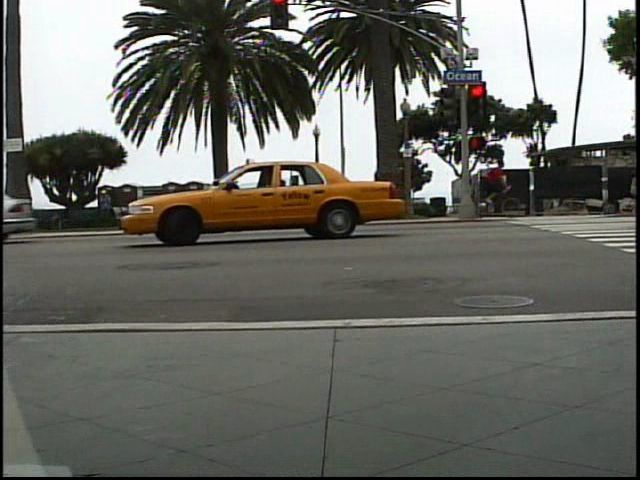person: (478, 157, 508, 212)
